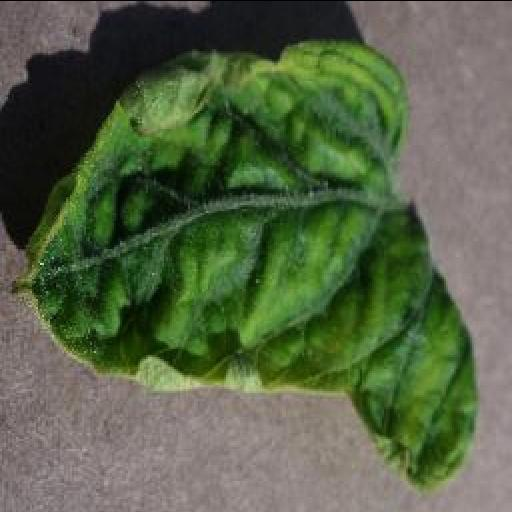disease_tomato: (10, 40, 480, 488)
